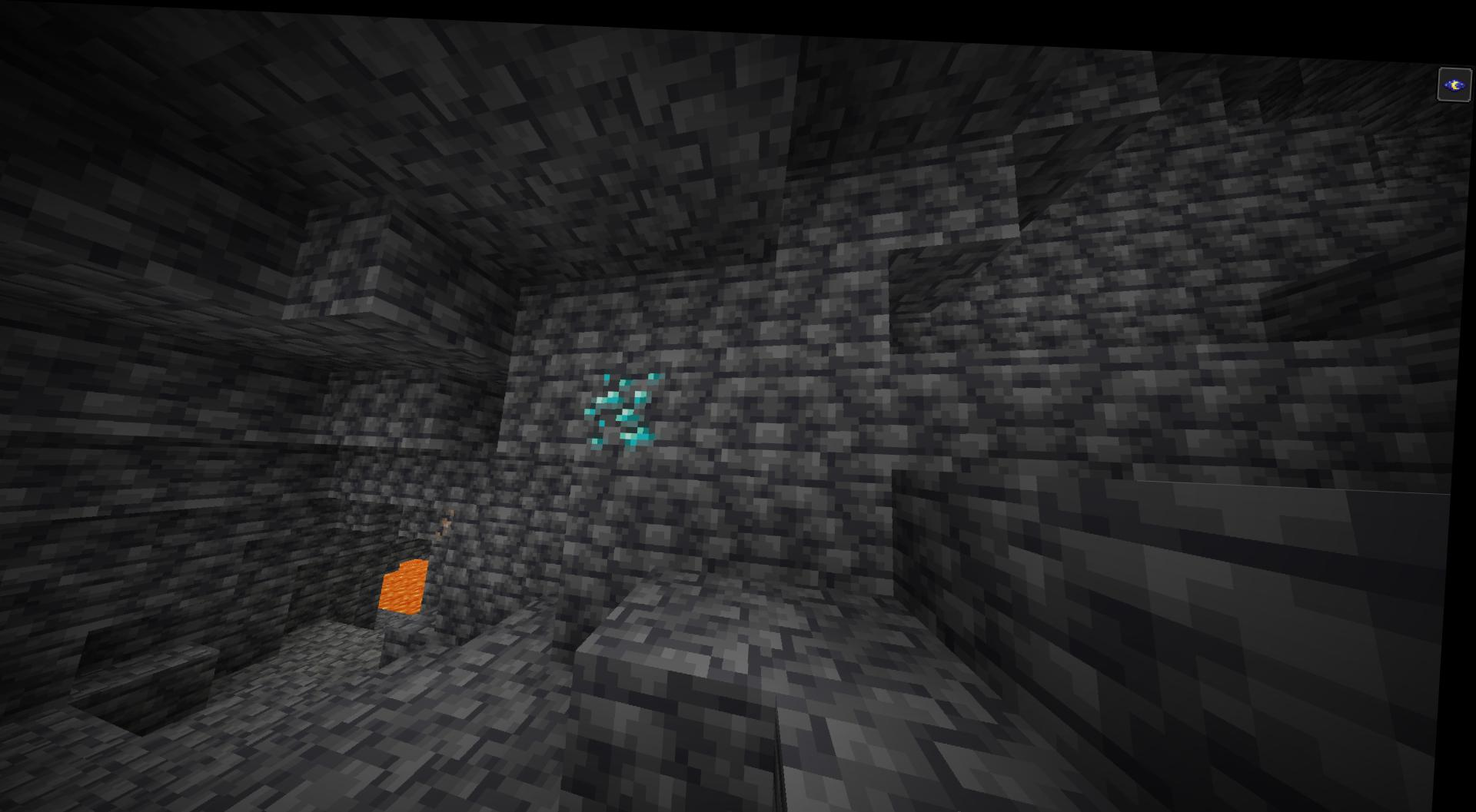diamond ore: (585, 365, 661, 446)
